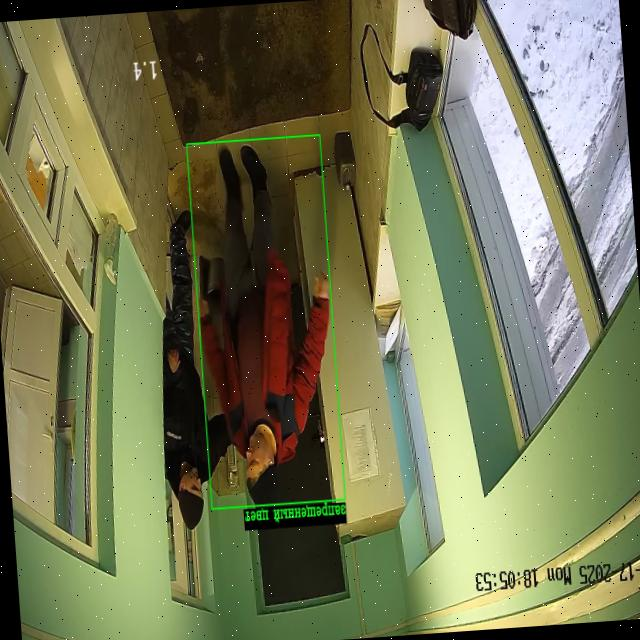Person: (163, 211, 229, 529)
Red uniform: (201, 144, 329, 503)
